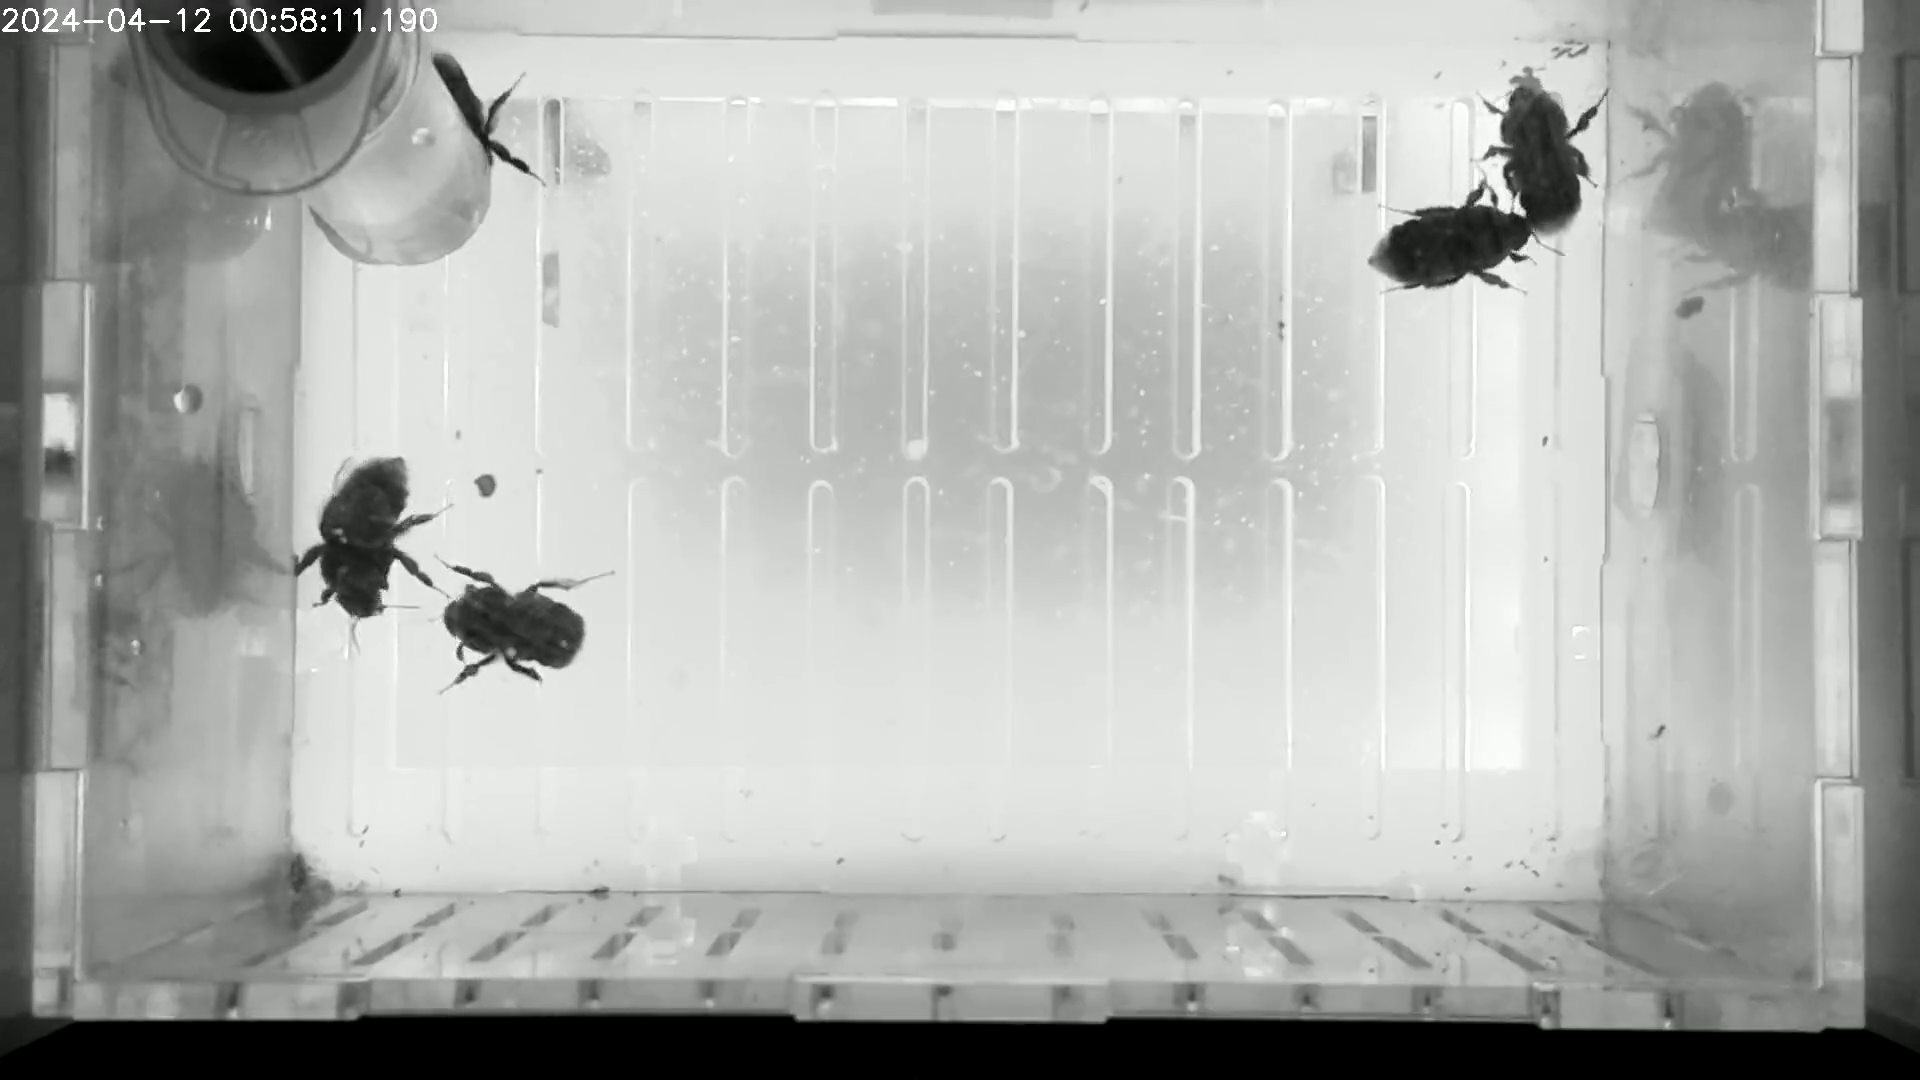bee: (284, 440, 456, 654), (1361, 162, 1568, 314), (426, 554, 628, 702), (1470, 59, 1625, 252), (417, 41, 556, 198)
feeder: (295, 38, 497, 272)
